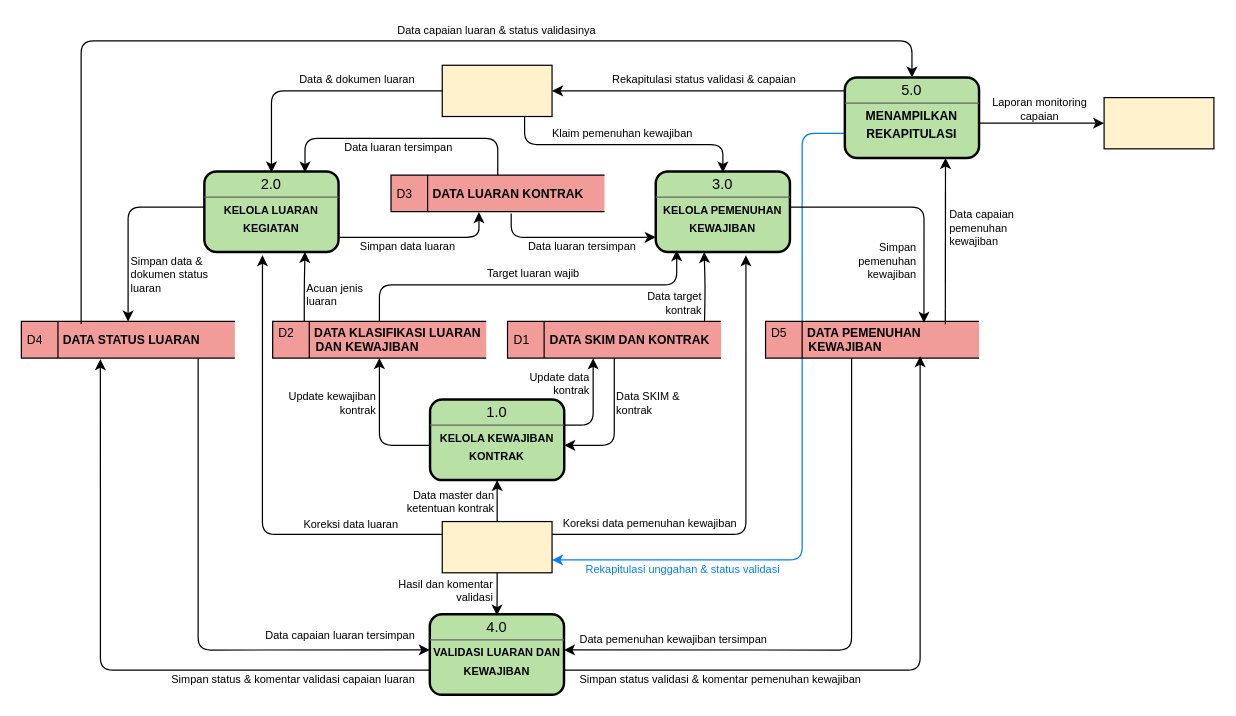
This 1236x716 diagram has some shape labels left out. The centre of each missing label's shape, as x and y in pixels:
"ADMIN/ VALIDATOR" goes at [496,546].
"MANAJEMEN" goes at [1158,122].
"PENELITI" goes at [496,90].
